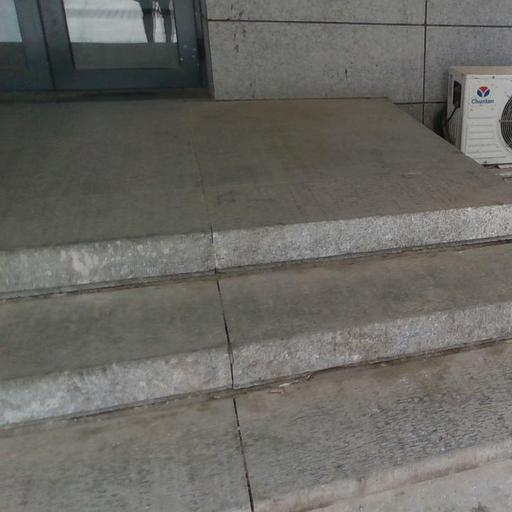stairs: (0, 100, 511, 511)
